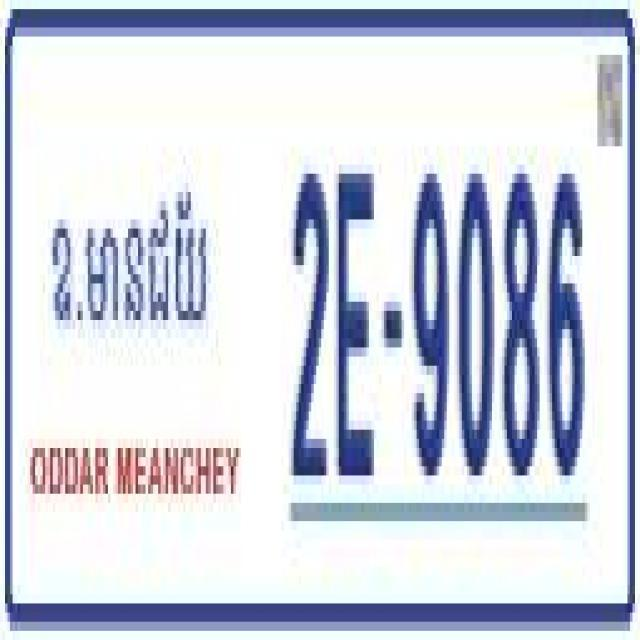Oudor_Meanchey: (45, 174, 216, 352)
